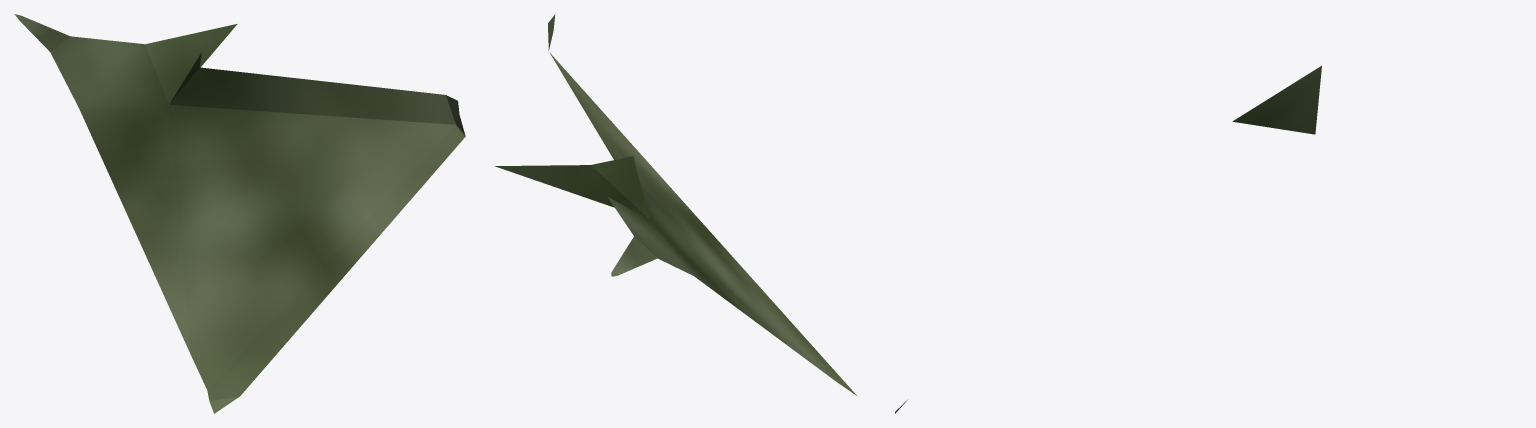
The picture shows the model from 3 angles, left to right: view 1: azimuth 30°, elevation 25°; view 2: azimuth 150°, elevation 25°; view 3: azimuth 270°, elevation 25°; orthographic projection. The views are drawn at different scales.
Bounding box in the file's own units: 0.2194 × 0.2114 × 0.302.
1 material, 1 textured.
